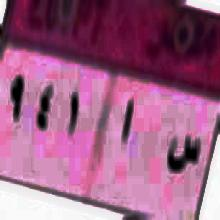1: (65, 83, 82, 140)
4: (32, 81, 53, 150)
9: (8, 67, 27, 131)
alif: (117, 88, 136, 156)
seen: (166, 119, 200, 191)
